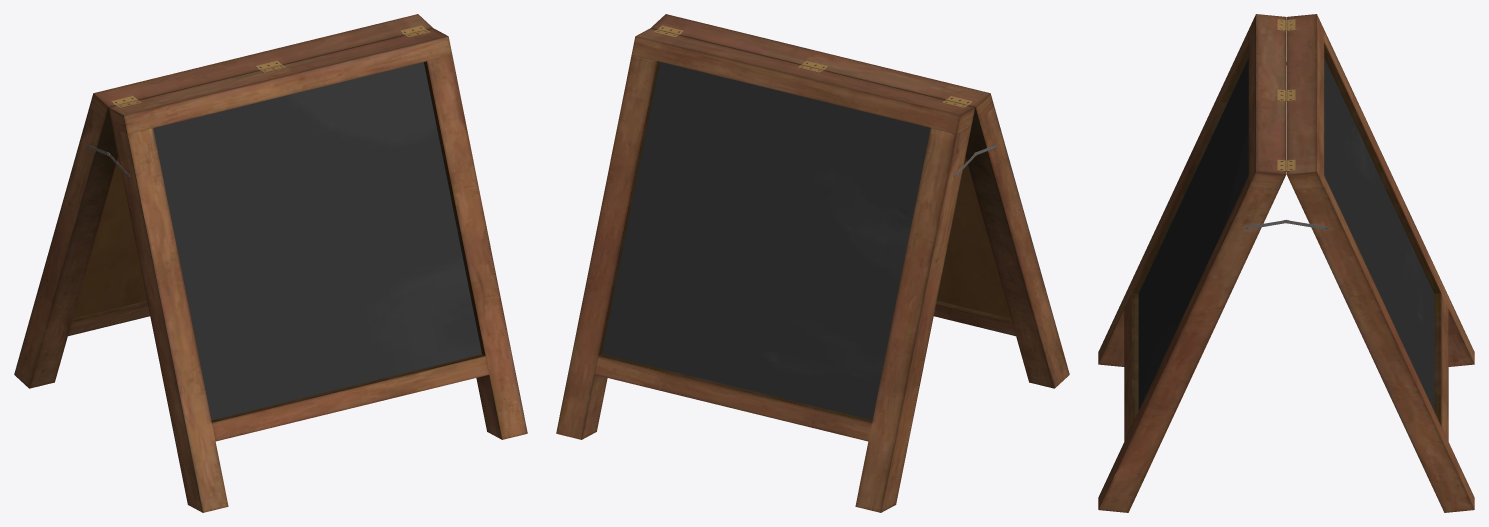
The model's file is ph-standing-chalkboard-01.glb.
The picture shows the model from 3 angles, left to right: view 1: azimuth 30°, elevation 25°; view 2: azimuth 150°, elevation 25°; view 3: azimuth 270°, elevation 25°; orthographic projection.
Parts seen in each view (by area): view 1: standing_chalkboard_01; view 2: standing_chalkboard_01; view 3: standing_chalkboard_01.
Part boxes in pixels (box(x1,y1,x2,y2)): standing_chalkboard_01: box(14, 14, 527, 512); standing_chalkboard_01: box(556, 14, 1069, 512); standing_chalkboard_01: box(1098, 14, 1474, 512).
Size of the model in its own units: 1 by 1 by 1.
Materials: 2 (2 with a texture image).
